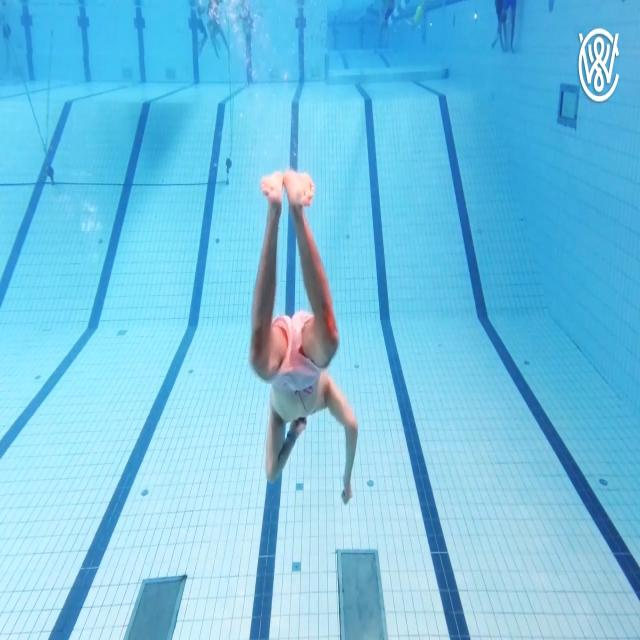Swimming: (250, 167, 358, 508)
